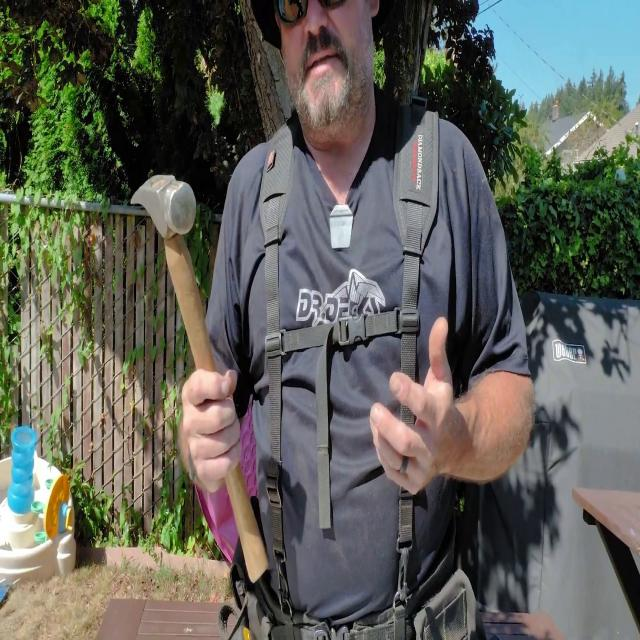hammer: (130, 174, 269, 586)
